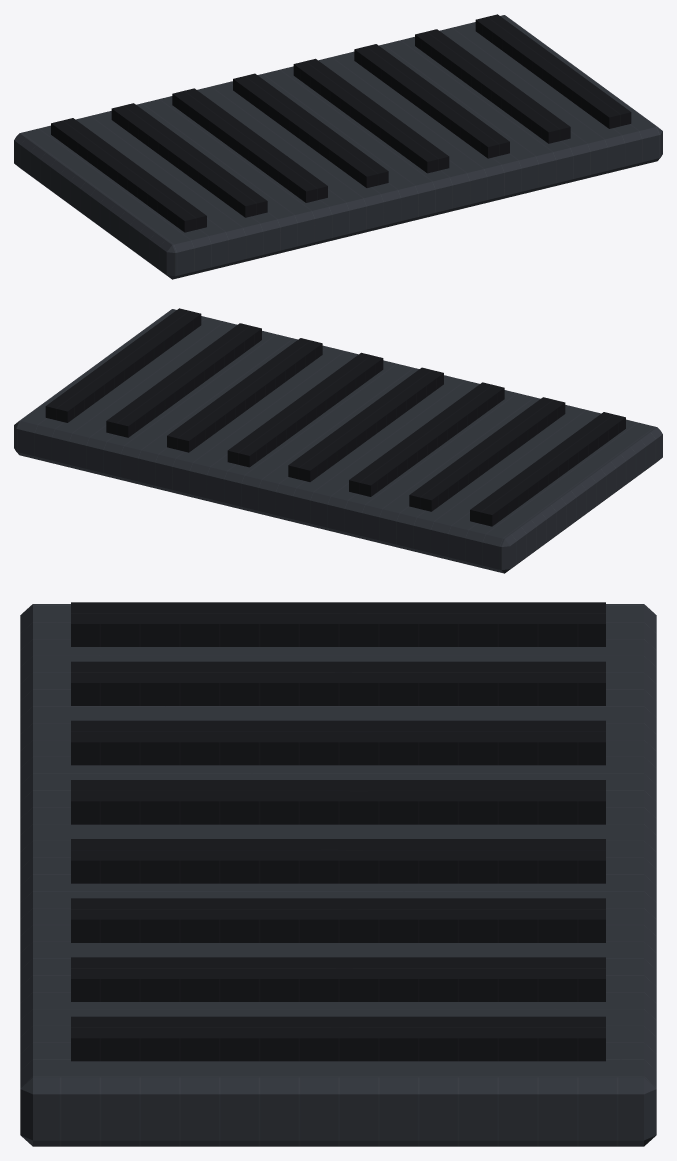
Rendered from kit_drain.glb.
The picture shows the model from 3 angles, top to bottom: view 1: azimuth 30°, elevation 25°; view 2: azimuth 150°, elevation 25°; view 3: azimuth 270°, elevation 25°; orthographic projection. The views are drawn at different scales.
Visible parts, largest first — view 1: dr_frame, dr_bar1, dr_bar4, dr_bar7, dr_bar2, dr_bar3, dr_bar5, dr_bar6, dr_bar0; view 2: dr_frame, dr_bar1, dr_bar4, dr_bar7, dr_bar2, dr_bar3, dr_bar5, dr_bar6, dr_bar0; view 3: dr_frame, dr_bar2, dr_bar7, dr_bar0, dr_bar1, dr_bar3, dr_bar4, dr_bar5, dr_bar6.
Boxes of the visible parts, x1,y1,x2,y2 form: dr_frame: (14, 15, 662, 279); dr_bar1: (111, 103, 267, 217); dr_bar4: (293, 58, 449, 173); dr_bar7: (475, 14, 631, 128); dr_bar2: (172, 88, 327, 202); dr_bar3: (233, 73, 388, 187); dr_bar5: (354, 44, 509, 158); dr_bar6: (415, 29, 570, 143); dr_bar0: (51, 118, 206, 232); dr_frame: (14, 309, 662, 573); dr_bar1: (409, 397, 565, 511); dr_bar4: (227, 352, 383, 467); dr_bar7: (45, 308, 201, 422); dr_bar2: (349, 382, 504, 496); dr_bar3: (288, 367, 443, 481); dr_bar5: (167, 338, 322, 452); dr_bar6: (106, 323, 261, 437); dr_bar0: (470, 412, 625, 526); dr_frame: (20, 604, 656, 1146); dr_bar2: (71, 720, 605, 765); dr_bar7: (71, 1016, 605, 1061); dr_bar0: (71, 602, 605, 646); dr_bar1: (71, 661, 605, 705); dr_bar3: (71, 780, 605, 824); dr_bar4: (71, 839, 605, 883); dr_bar5: (71, 898, 605, 942); dr_bar6: (71, 957, 605, 1001).
Bounding box in the file's own units: 0.9 × 0.08 × 0.5.
Materials: 2 (2 with a texture image).
